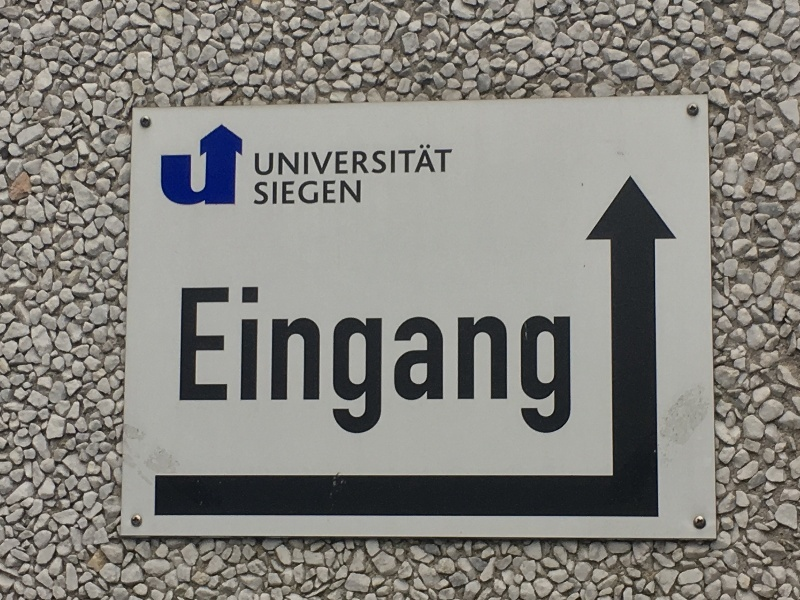text: (193, 287, 208, 435), (209, 287, 224, 435), (225, 287, 240, 435), (241, 287, 256, 435), (257, 287, 272, 435), (273, 287, 288, 435), (289, 287, 304, 435), (305, 287, 320, 435), (321, 287, 336, 435), (337, 287, 352, 435), (353, 287, 368, 435), (369, 287, 384, 435), (385, 287, 400, 435), (401, 287, 416, 435), (417, 287, 432, 435), (433, 287, 448, 435), (449, 287, 464, 435), (465, 287, 480, 435), (481, 287, 496, 435), (497, 287, 512, 435), (513, 287, 528, 435), (529, 287, 544, 435), (545, 287, 560, 435), (181, 287, 192, 435), (561, 287, 572, 435), (257, 144, 272, 176), (273, 144, 288, 176), (289, 144, 304, 176), (305, 144, 320, 176), (321, 144, 336, 176), (337, 144, 352, 176), (353, 144, 368, 176), (369, 144, 384, 176), (385, 144, 400, 176), (401, 144, 416, 176), (417, 144, 432, 176), (433, 144, 448, 176), (257, 180, 272, 205), (273, 180, 288, 205), (289, 180, 304, 205), (305, 180, 320, 205), (321, 180, 336, 205), (337, 180, 352, 205), (353, 180, 361, 205), (449, 144, 453, 176), (255, 144, 256, 176), (255, 180, 256, 205)
